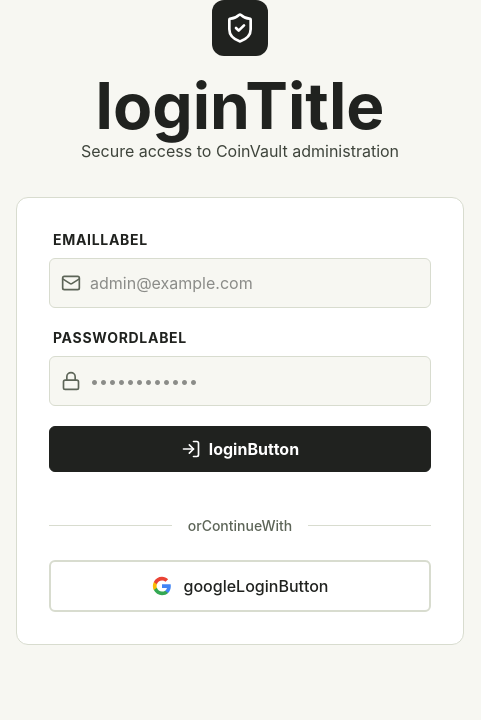
Test case: LoginForm › shows validation errors for empty fields
The width and height of the screenshot is (481, 720).
Click the button "loginButton": (240, 449) [49,426,431,472]
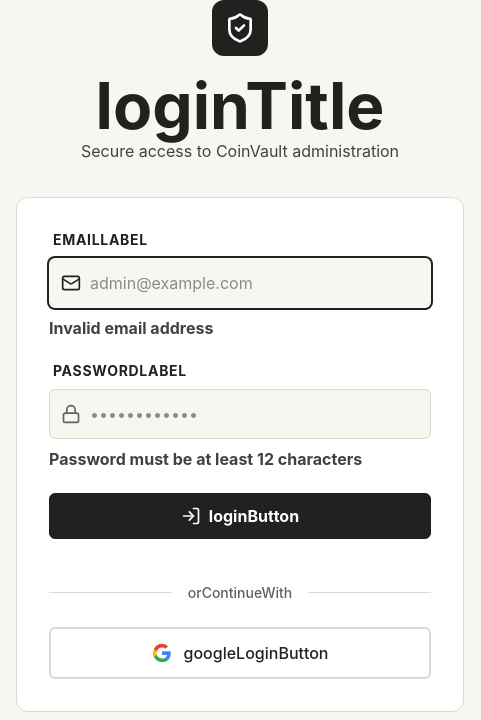
Now the text "Invalid email address" is shown, box [49,318,213,338]
Now the text "Password must be at least 12 characters" is shown, box [49,449,362,469]
